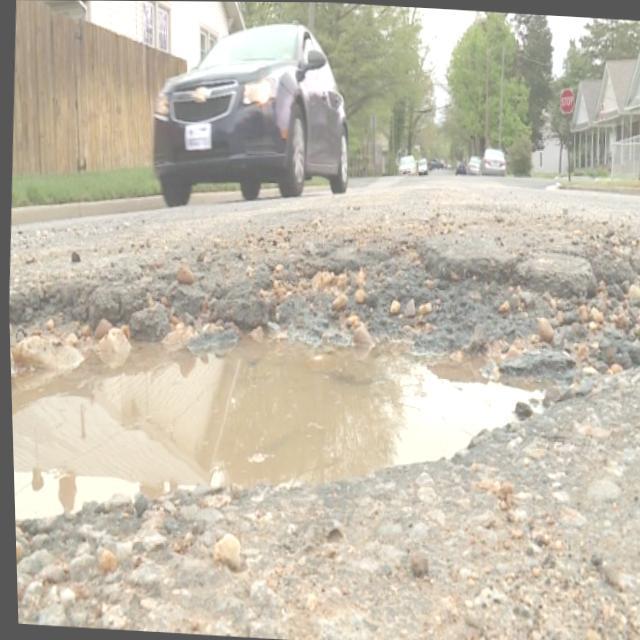Pothole: (7, 242, 640, 534)
